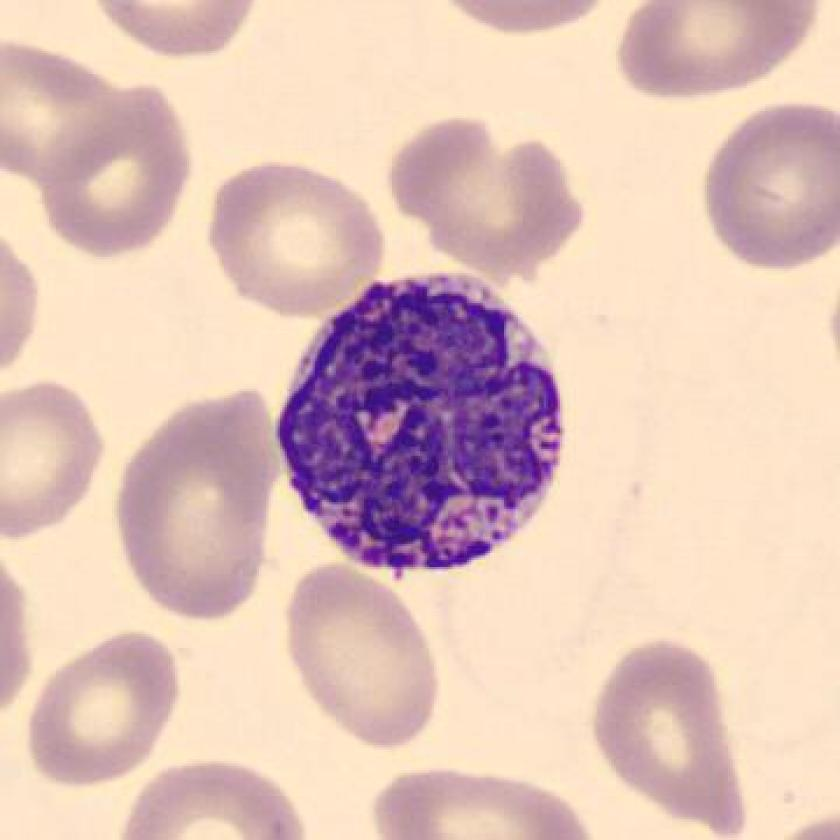basophil: (272, 274, 573, 573)
